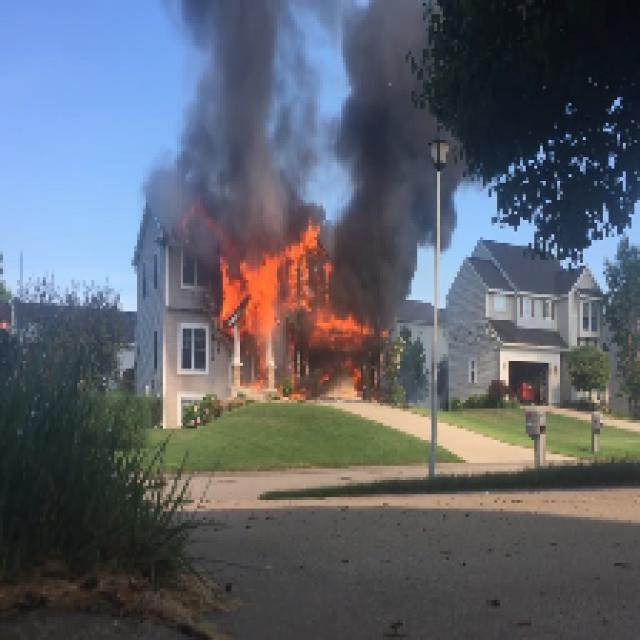Fire: (212, 228, 332, 334)
Smoke: (148, 3, 326, 220), (334, 6, 429, 294)
